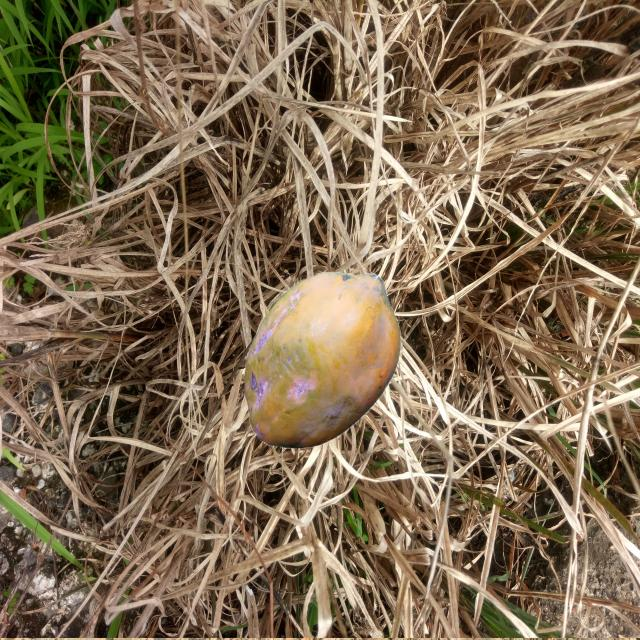Pepaya rippen: (226, 274, 407, 451)
